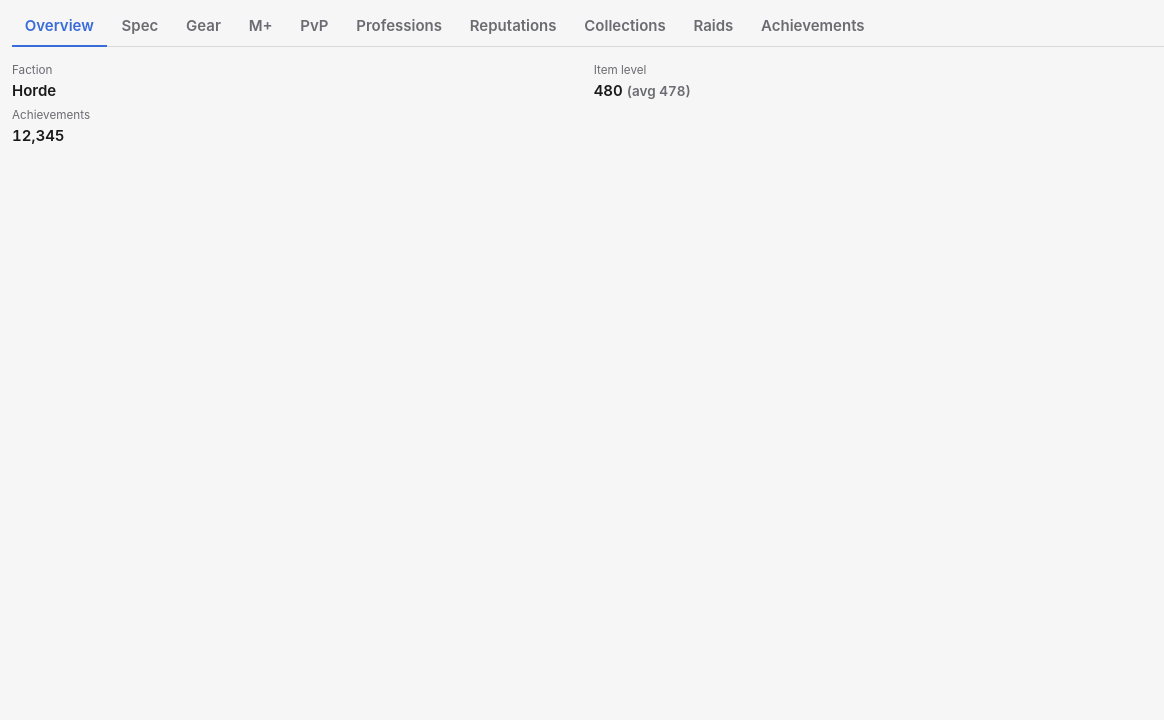
Test case: CharacterDetail › lazily fetches gear only when the Gear tab is selected, rendering the paper doll
The image size is (1164, 720).
Click the tab "Gear" at point(203, 27), box top-left (173, 8), bottom-right (234, 47)
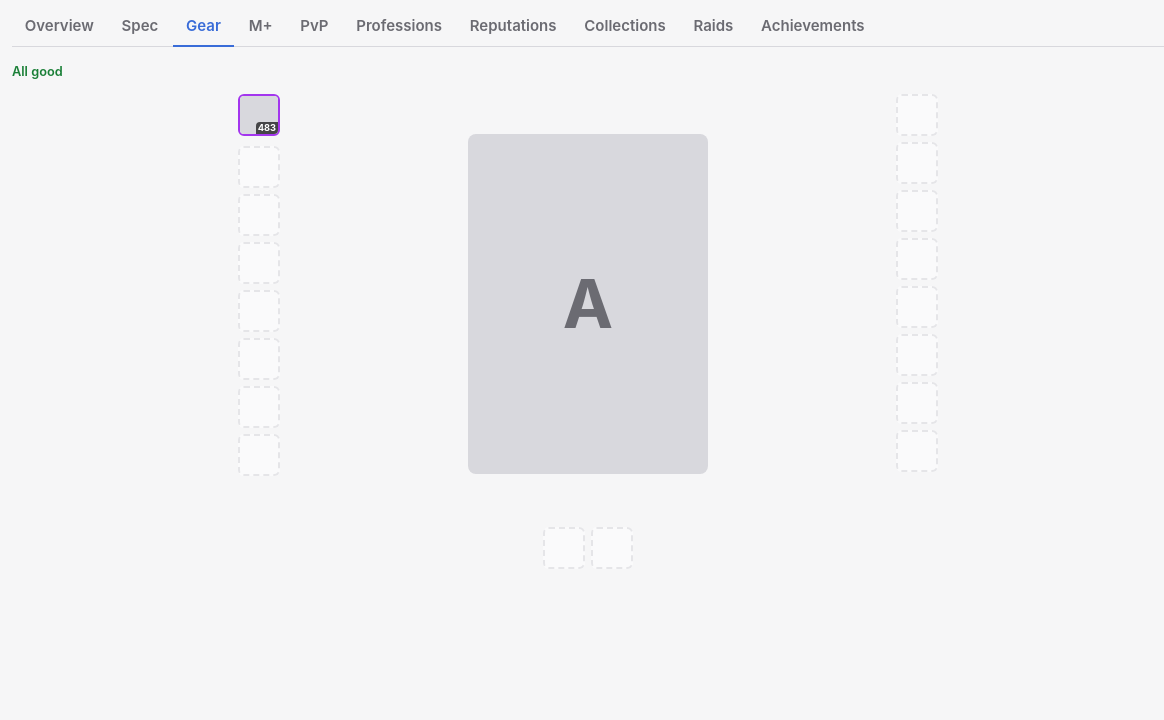
Check: the button named "Head: Crown of Testing" is shown, box top-left (238, 94), bottom-right (280, 136)
Check: the text "483" is shown, box top-left (256, 122), bottom-right (278, 134)
